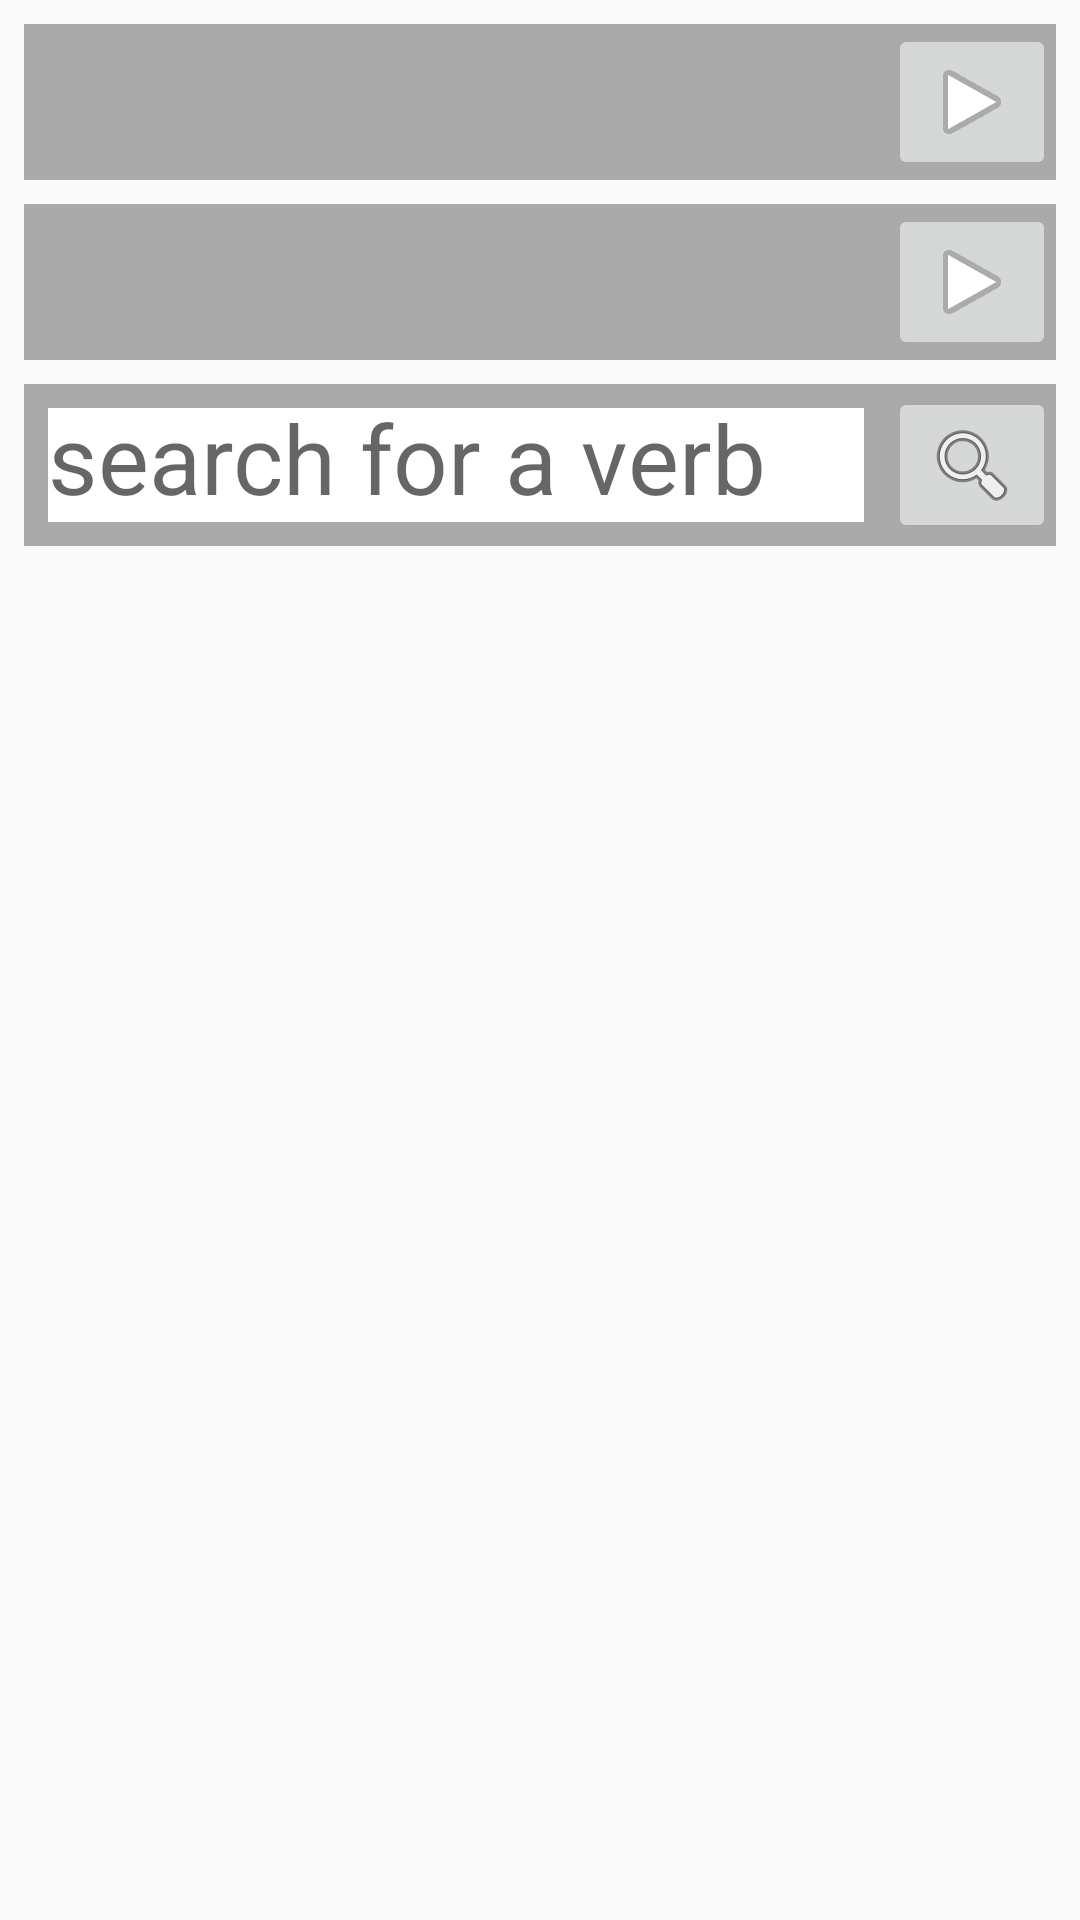

Point at icon controls on the screen. Image size 1080px x 1920px, points as point (x, y).
play: point (972, 102), point (972, 282)
